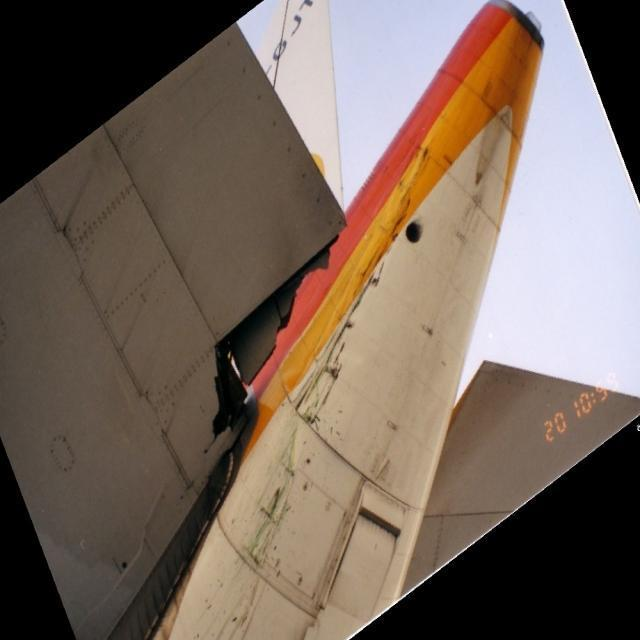crack: (203, 225, 352, 461)
